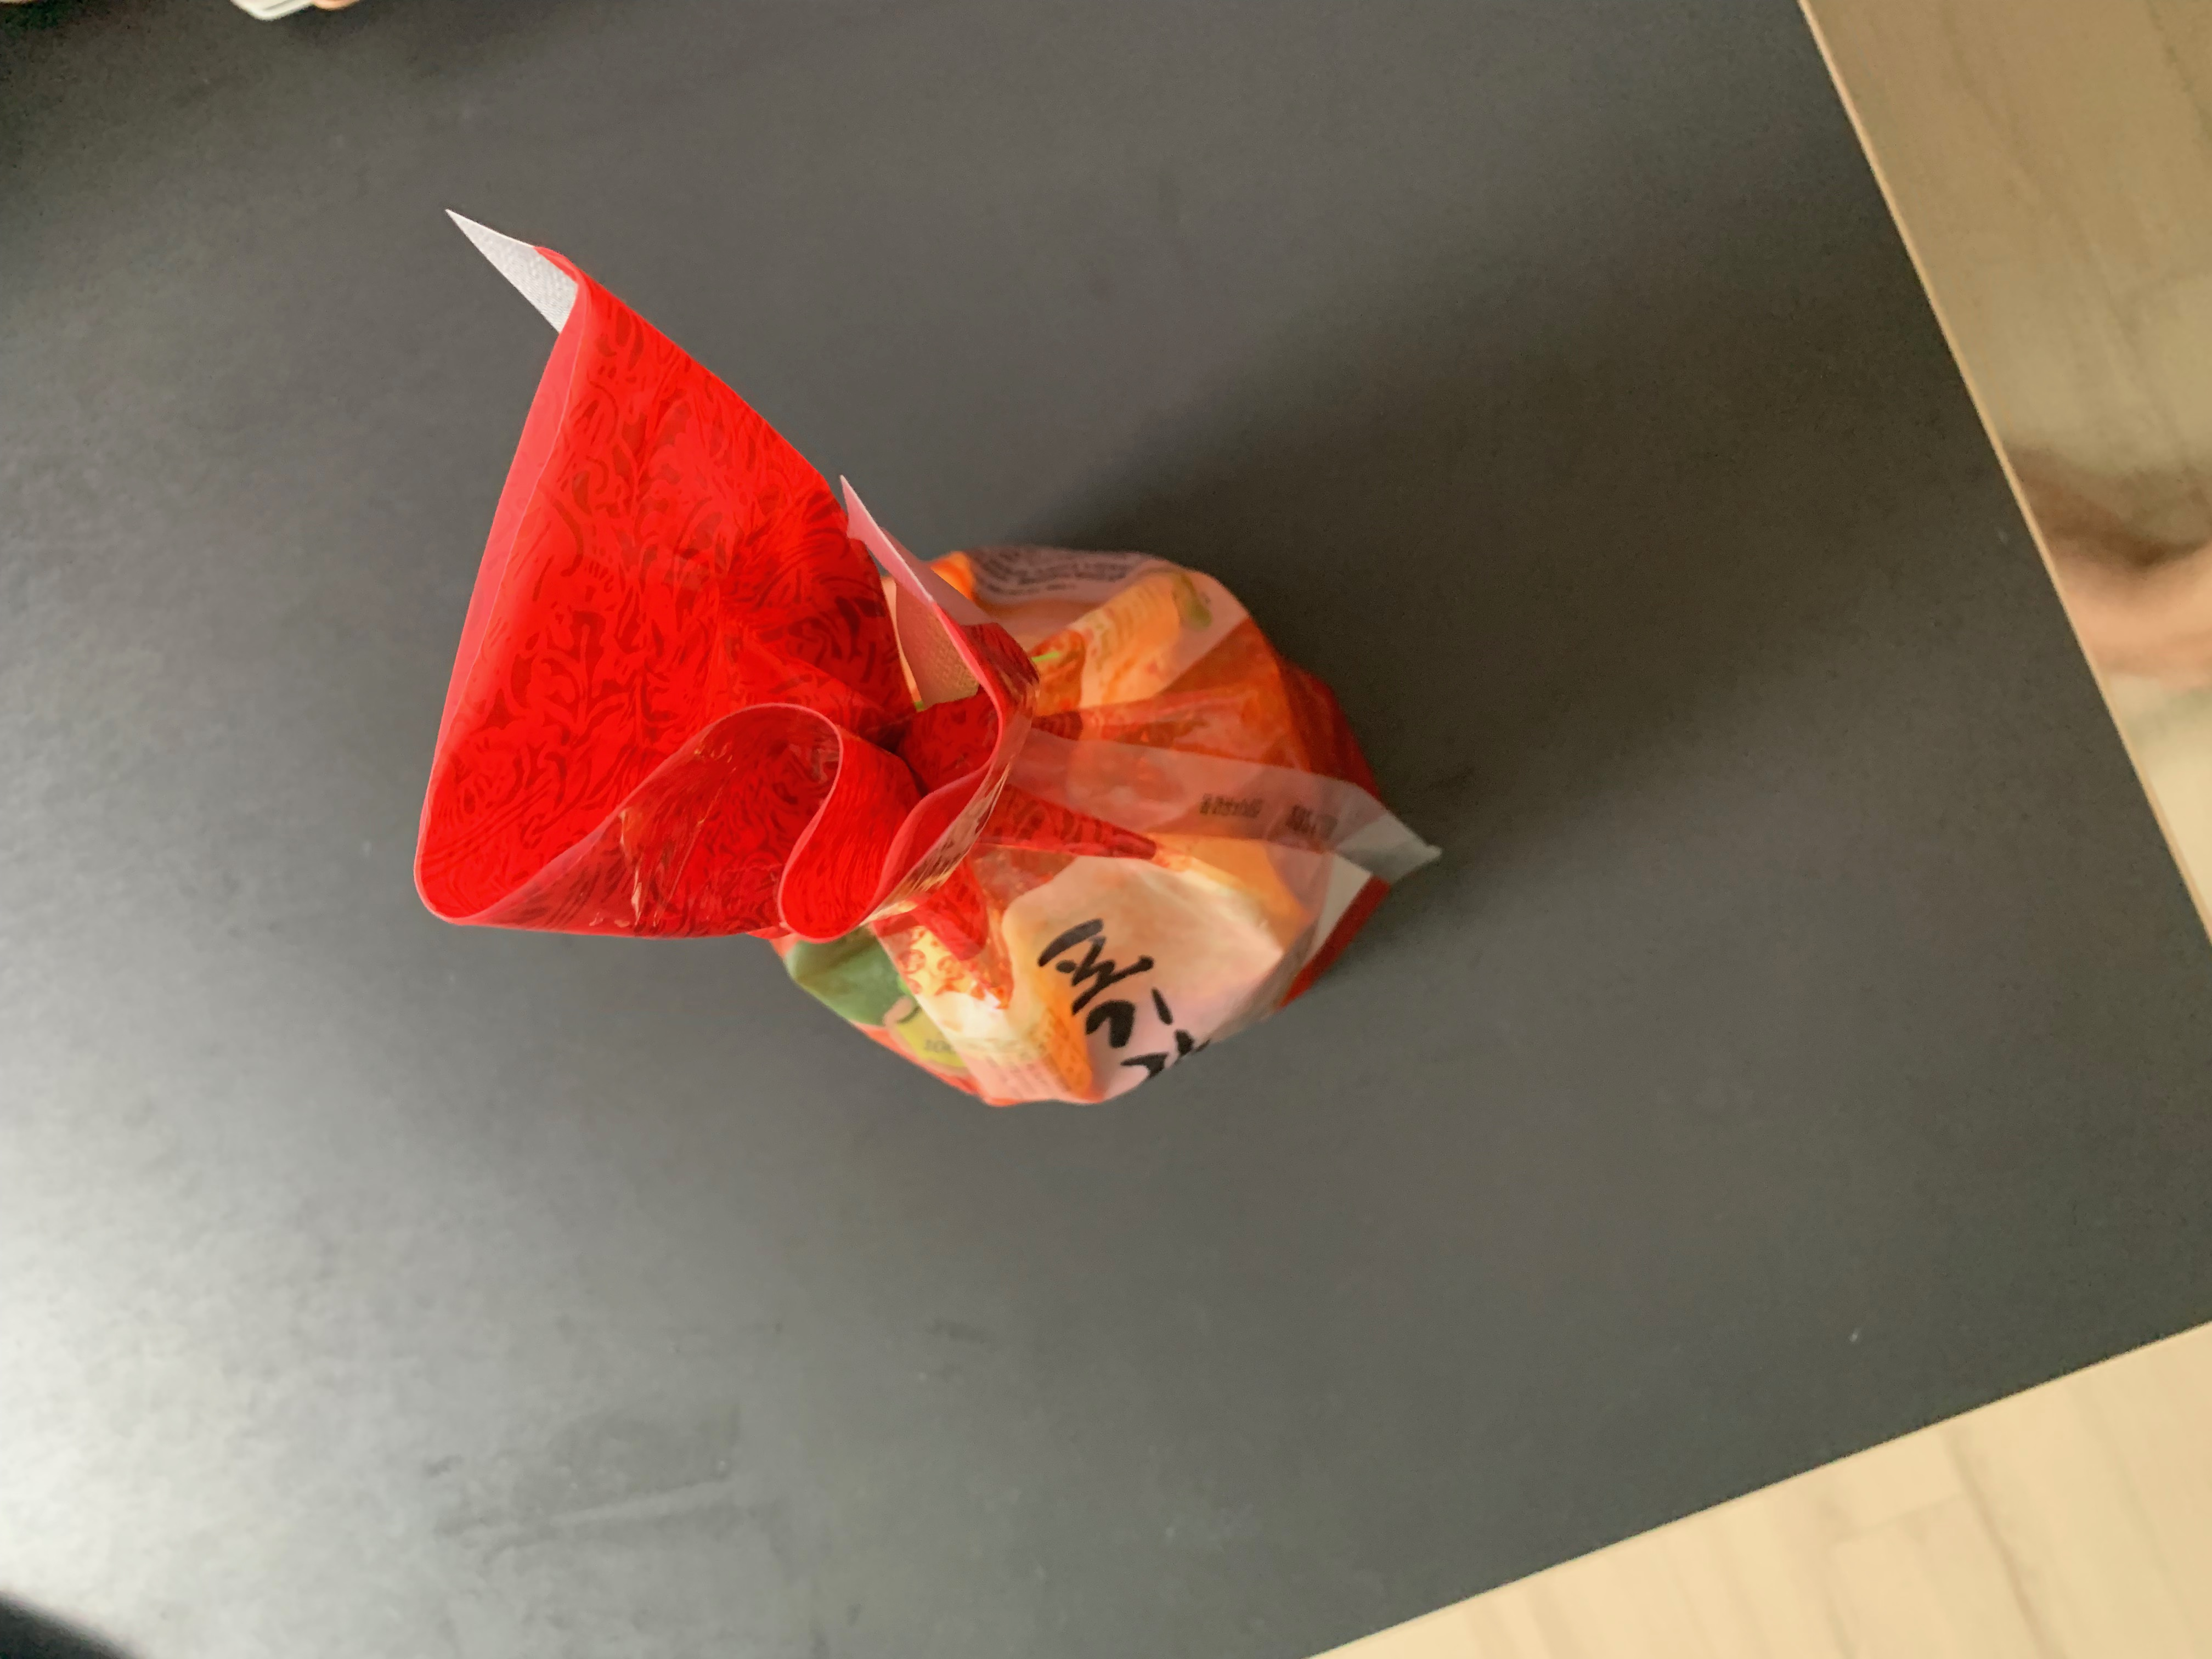kimchi: (416, 282, 1390, 1112)
